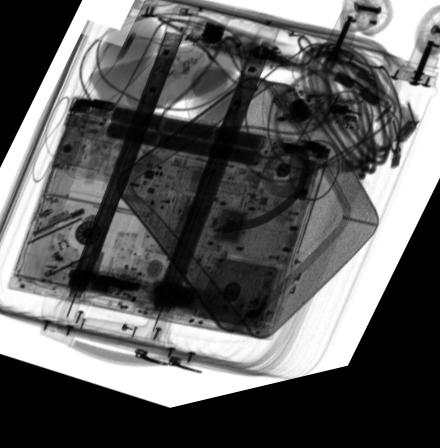Baton: (67, 269, 242, 328)
